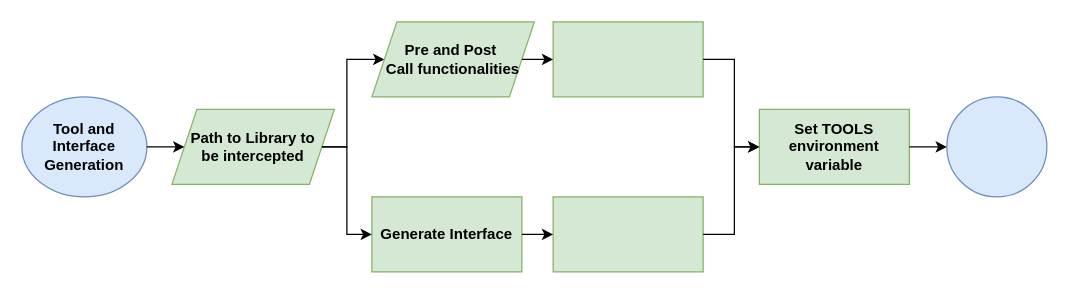
This 1069x294 diagram has some shape labels left out. The shapes that lost their labels are listed below. From the top down, each one's centre as x and y in pixels, then its label:
(x=627, y=59): Generate Tools
(x=996, y=146): Execute Application
(x=627, y=234): Link Application with the Interface
